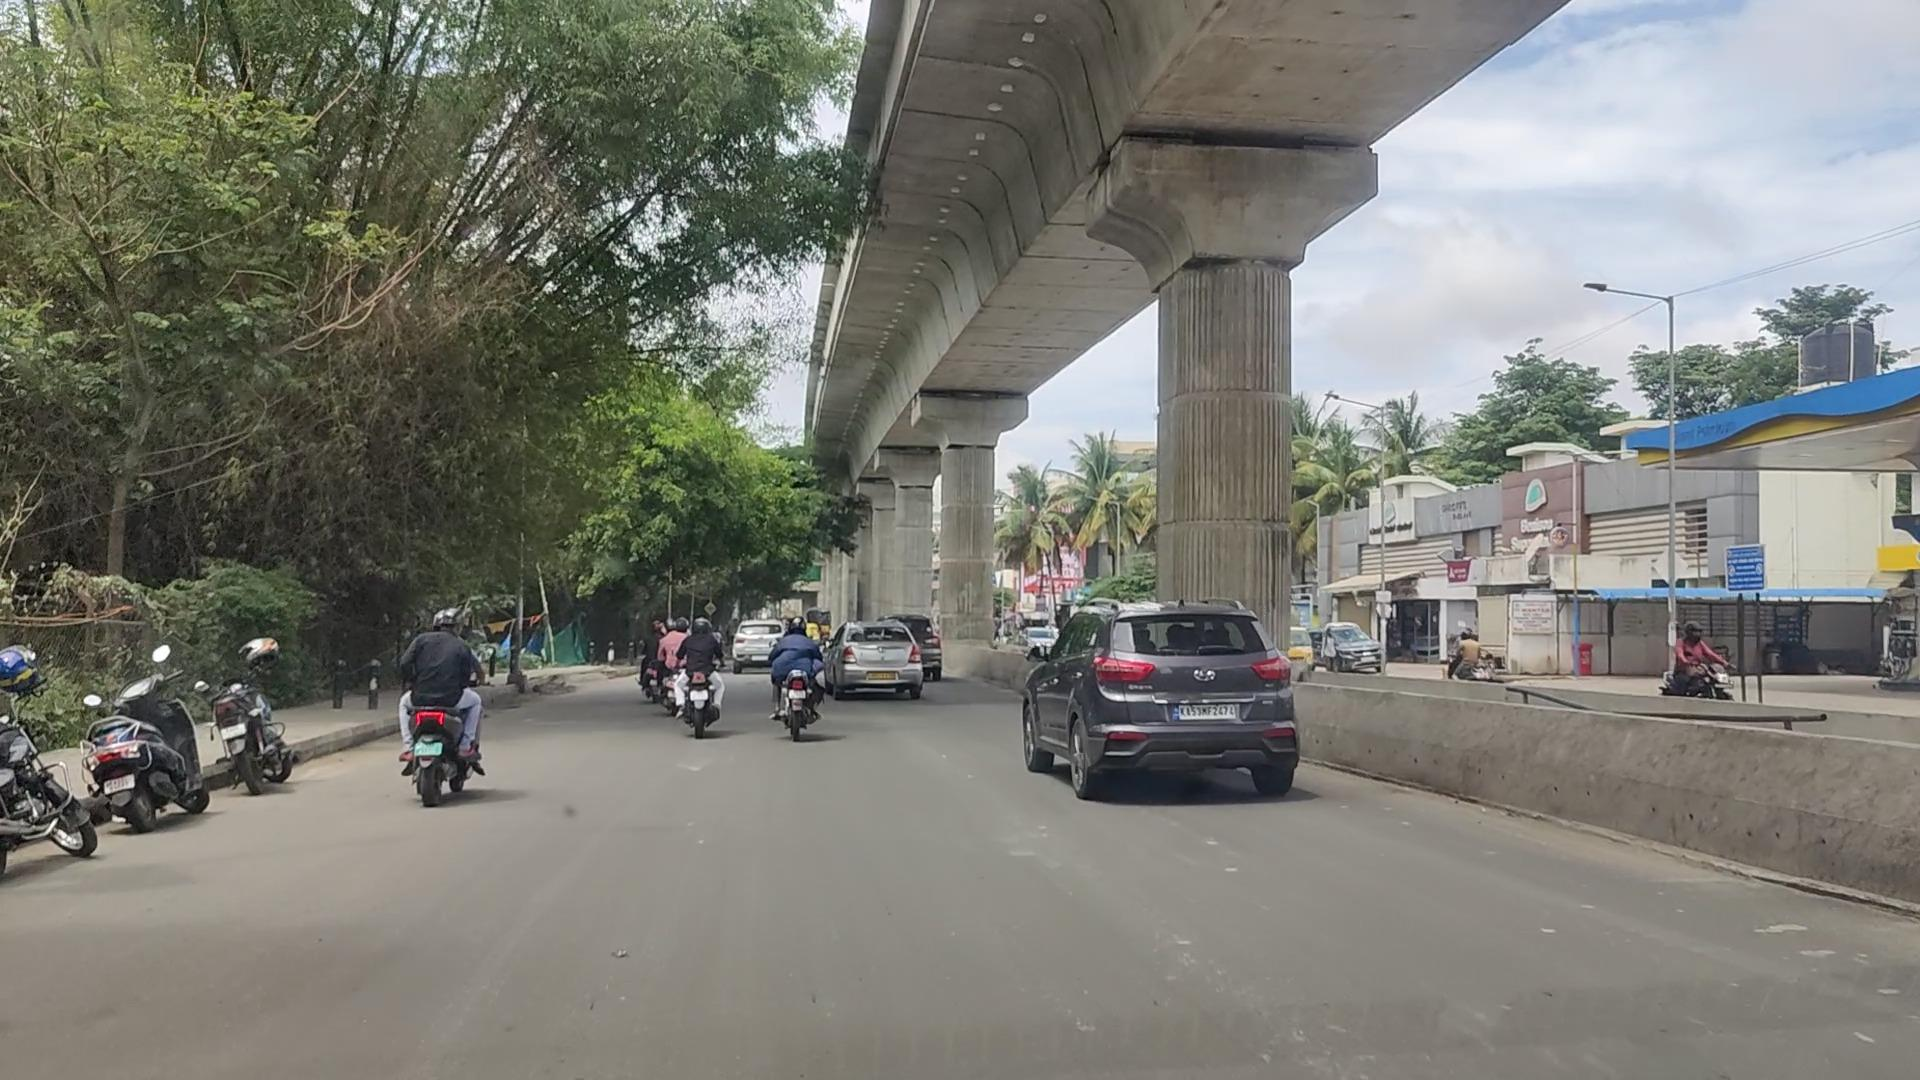LMV: (1052, 579, 1299, 824), (388, 591, 477, 815), (758, 600, 833, 748), (671, 601, 725, 738)
